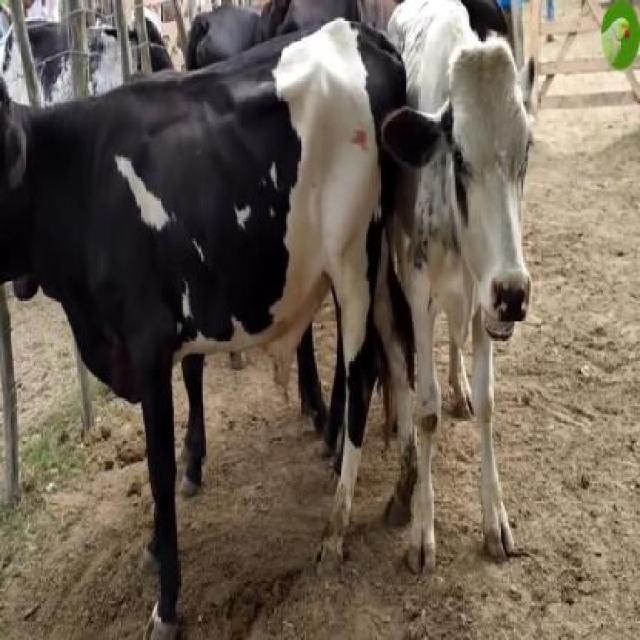Cow: (386, 0, 536, 577)
